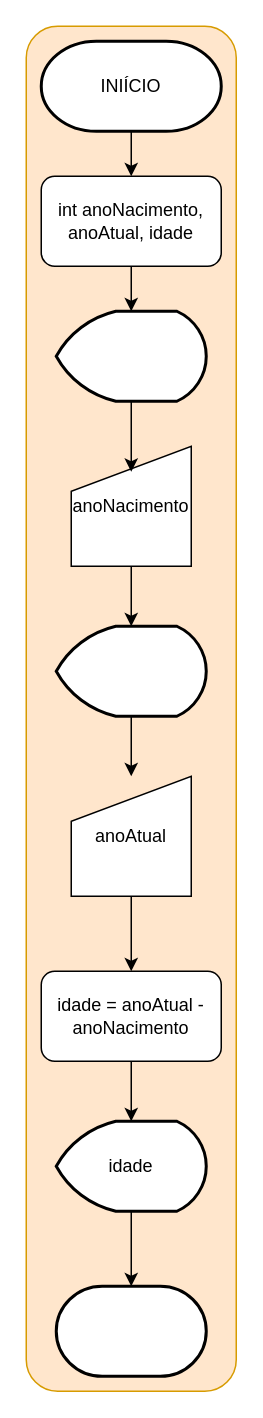
The diagram is 263 pixels wide and 1418 high, and some of its shapes have lost their labels. The shapes that lost their labels are listed below. From the top down, each one's box as (x1, y1, x2, y2) in pixels, then its label:
(54, 309, 207, 402): Qual seu ano de nacimento?
(54, 624, 207, 717): Qual o ano atual?
(54, 1284, 207, 1377): FIM
